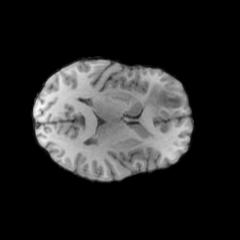glioma: (147, 85, 184, 114)
